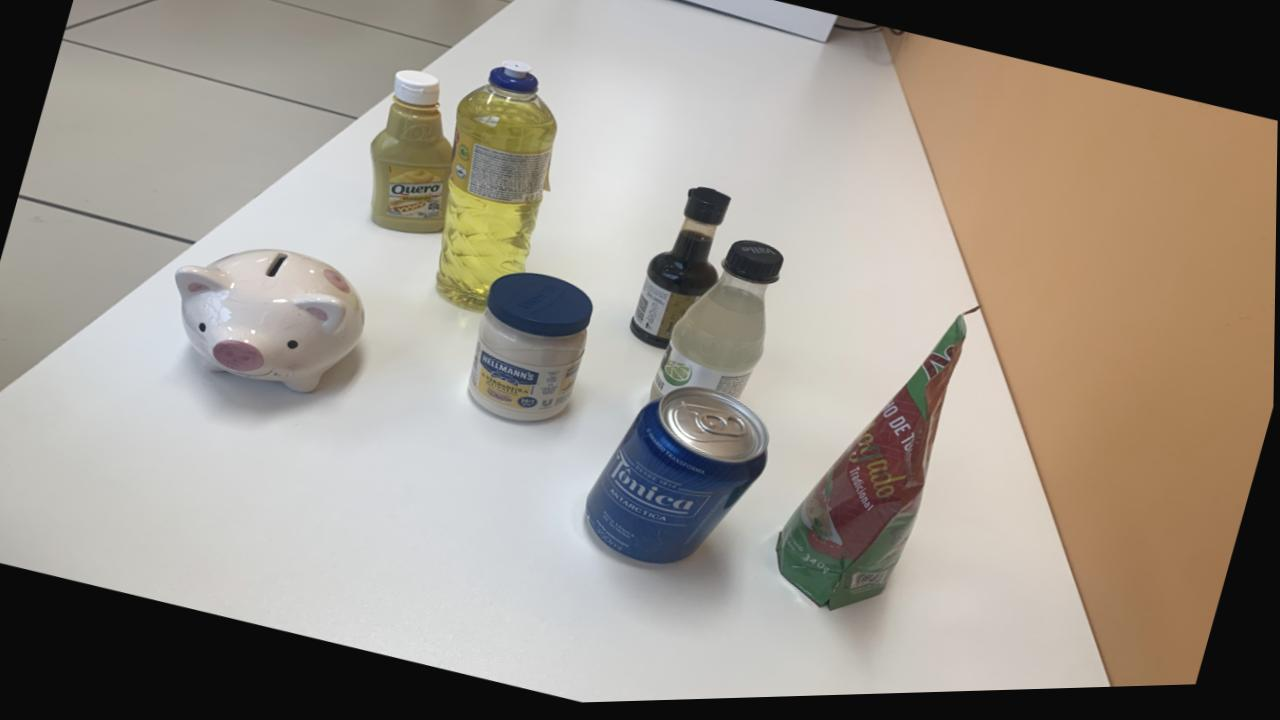Detergent-Cleanup_Items: (437, 64, 557, 315)
English_Sauce-Pantry_Items: (630, 192, 732, 353)
Mayonnaise-Pantry_Items: (469, 276, 594, 425)
Mustard-Pantry_Items: (370, 73, 453, 236)
Pig_Safe-Miscellaneous: (175, 250, 366, 395)
Soda-Drinks: (651, 245, 784, 404)
Tomato_Sauce-Pantry_Items: (778, 322, 968, 615)
Tonic-Drinks: (587, 391, 771, 568)
